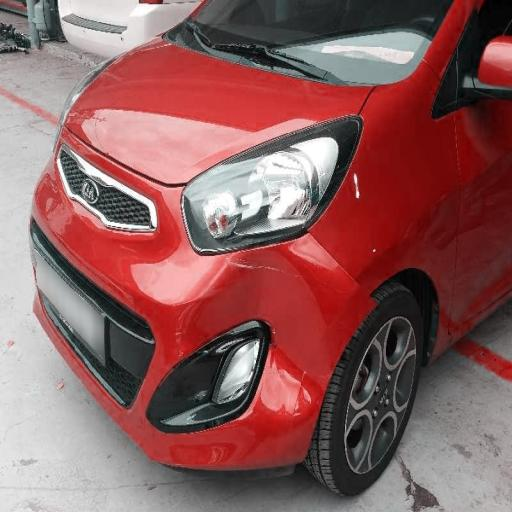dent: (140, 190, 338, 502)
